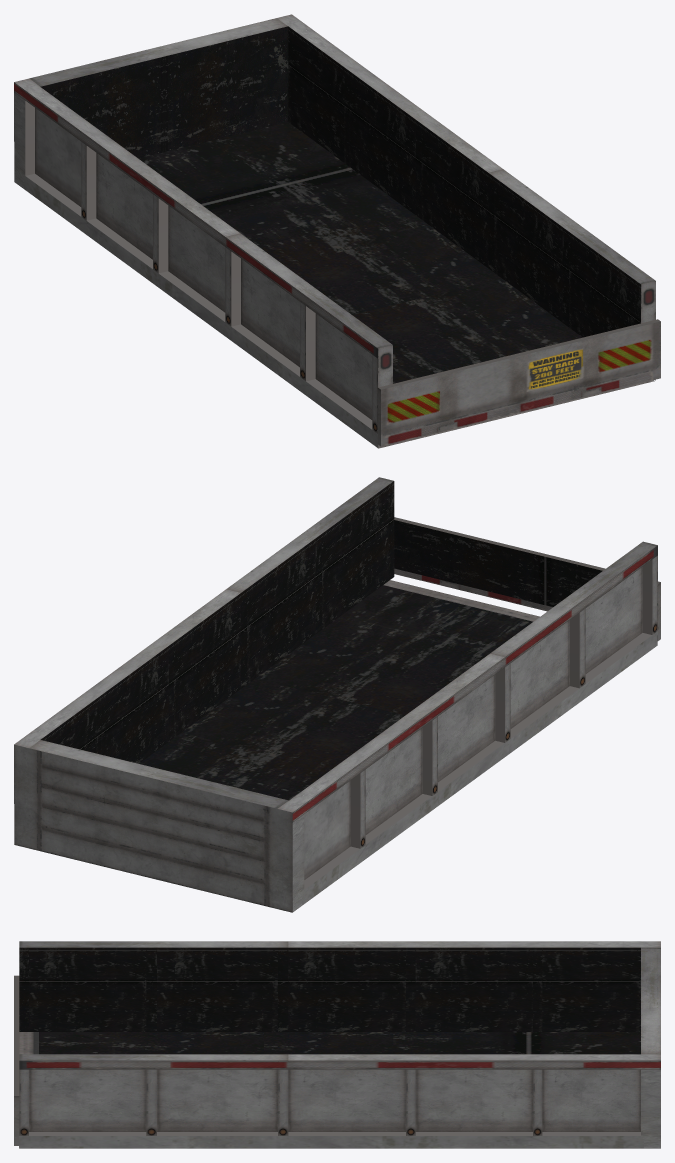
Rendered from Carriage_1.fbx.
3 renders of one model, top to bottom at view 1: azimuth 30°, elevation 25°; view 2: azimuth 150°, elevation 25°; view 3: azimuth 270°, elevation 25°, orthographic. The views are drawn at different scales.
Parts seen in each view (by area): view 1: Carriage_1; view 2: Carriage_1; view 3: Carriage_1.
Boxes of the visible parts, box(x1,y1,x2,y2) form: Carriage_1: box(14, 14, 660, 448); Carriage_1: box(14, 477, 660, 912); Carriage_1: box(14, 941, 660, 1148).
Bounding box in the file's own units: 102 × 34.78 × 231.
